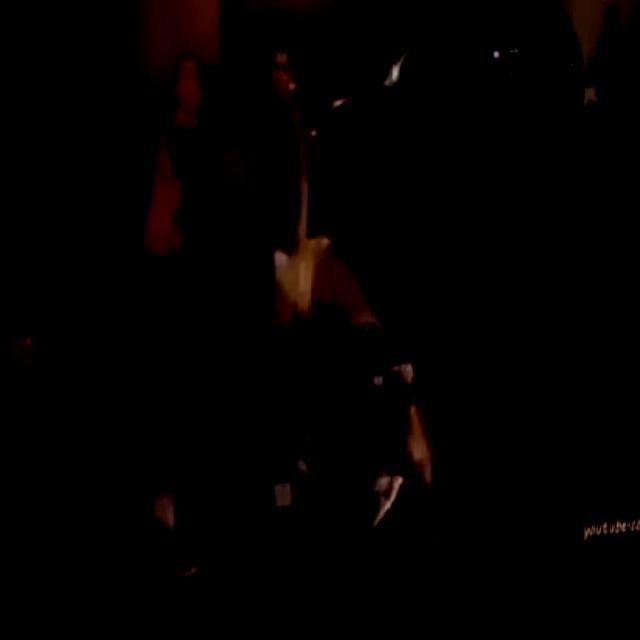fight: (112, 48, 285, 586), (217, 227, 442, 550)
